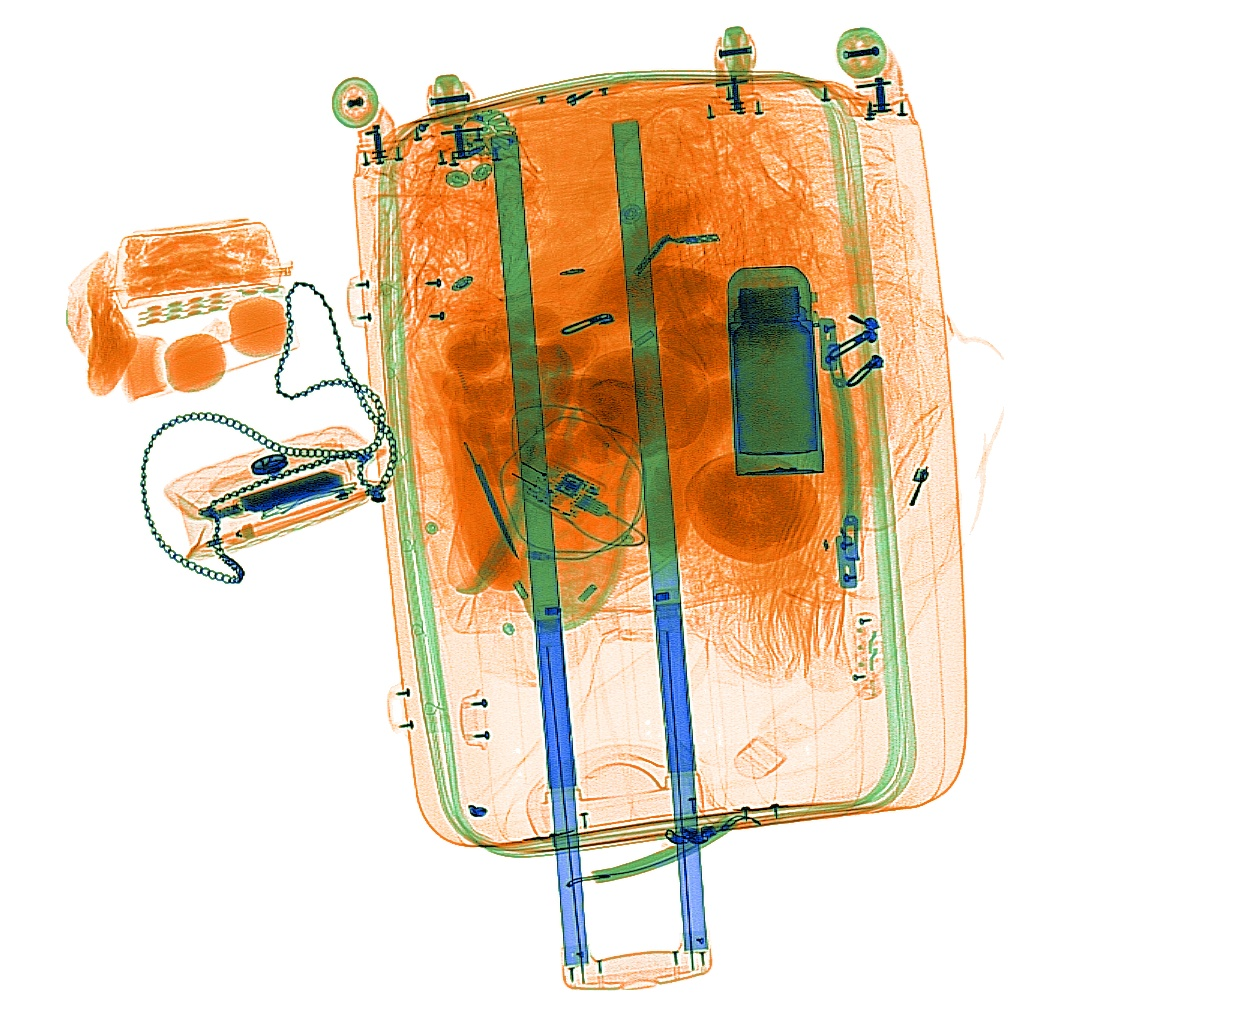metalcup: (724, 263, 826, 479)
smallelectronicequipment: (206, 466, 348, 520)
ysbingdao: (433, 367, 520, 564)
